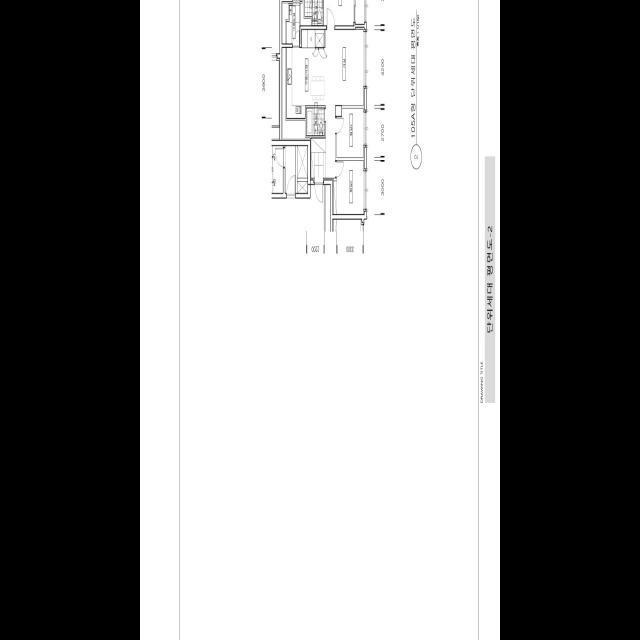background: (140, 0, 500, 640)
space_bedroom: (333, 160, 365, 214), (337, 108, 365, 157), (324, 0, 354, 25)
space_front: (310, 138, 326, 182)
space_kitchen: (287, 29, 326, 117)
space_living_room: (326, 27, 365, 179)
space_multipurpose_space: (286, 5, 300, 43)
space_other: (282, 47, 310, 139), (285, 145, 296, 194), (282, 1, 293, 43), (297, 145, 308, 177), (301, 0, 311, 25), (356, 0, 364, 23), (297, 181, 308, 192)
space_staircase: (272, 145, 283, 192)
space_toilet: (306, 107, 325, 135), (305, 0, 323, 25)
